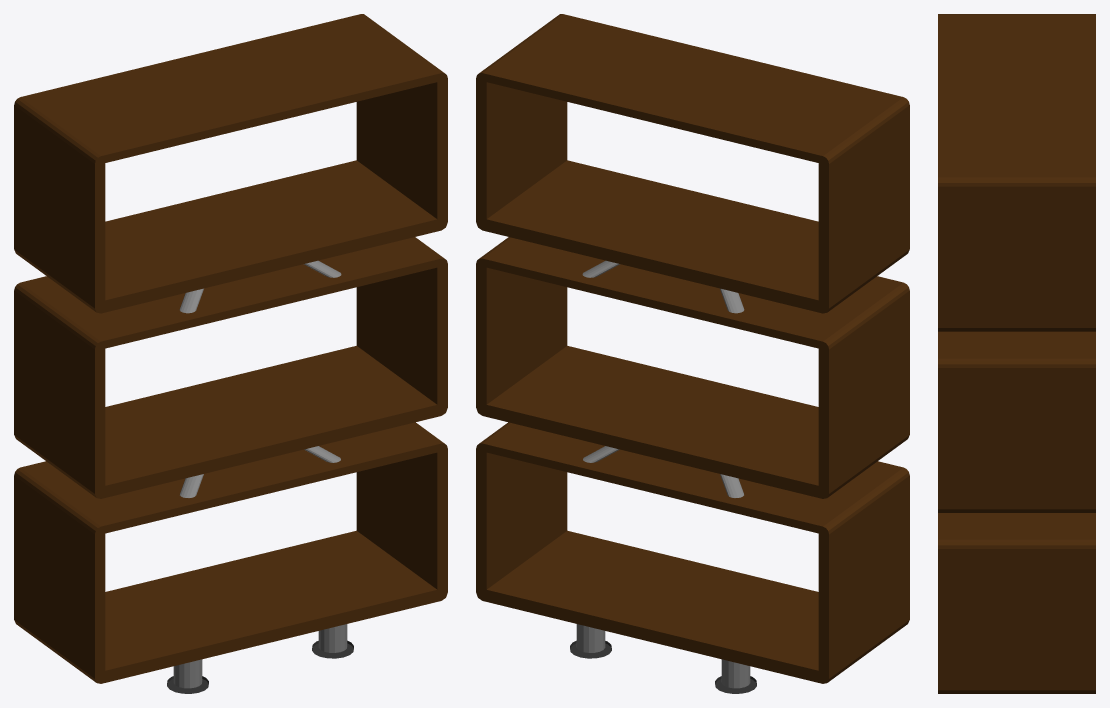
The model's file is CPI441_Fur_BookShelf_O3_V2.fbx.
3 views of the same model, side by side, from view 1: azimuth 30°, elevation 25°; view 2: azimuth 150°, elevation 25°; view 3: azimuth 270°, elevation 25° (orthographic). The views are drawn at different scales.
Parts seen in each view (by area): view 1: Cylinder; view 2: Cylinder; view 3: Cylinder.
Boxes of the visible parts, x1,y1,x2,y2 form: Cylinder: (14, 14, 447, 693); Cylinder: (476, 14, 909, 693); Cylinder: (938, 14, 1095, 693).
Bounding box in the file's own units: 1289 × 1957 × 510.
